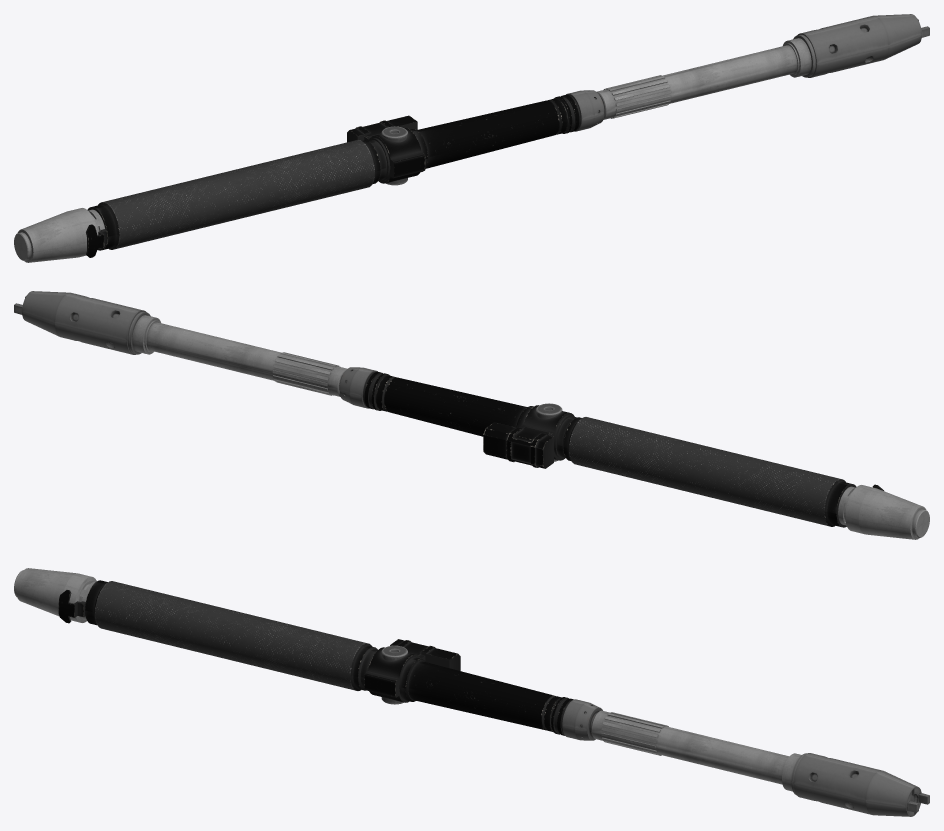
3 views of the same model, one above another, from view 1: azimuth 30°, elevation 25°; view 2: azimuth 150°, elevation 25°; view 3: azimuth 330°, elevation 25° (orthographic).
Visible parts, largest first — view 1: Stun; view 2: Stun; view 3: Stun.
Part boxes in pixels (box(x1,y1,x2,y2)): Stun: box(14, 14, 929, 262); Stun: box(14, 291, 929, 539); Stun: box(14, 568, 929, 816).
Bounding box in the file's own units: 879 × 44.99 × 71.23.
1 material, 1 textured.
